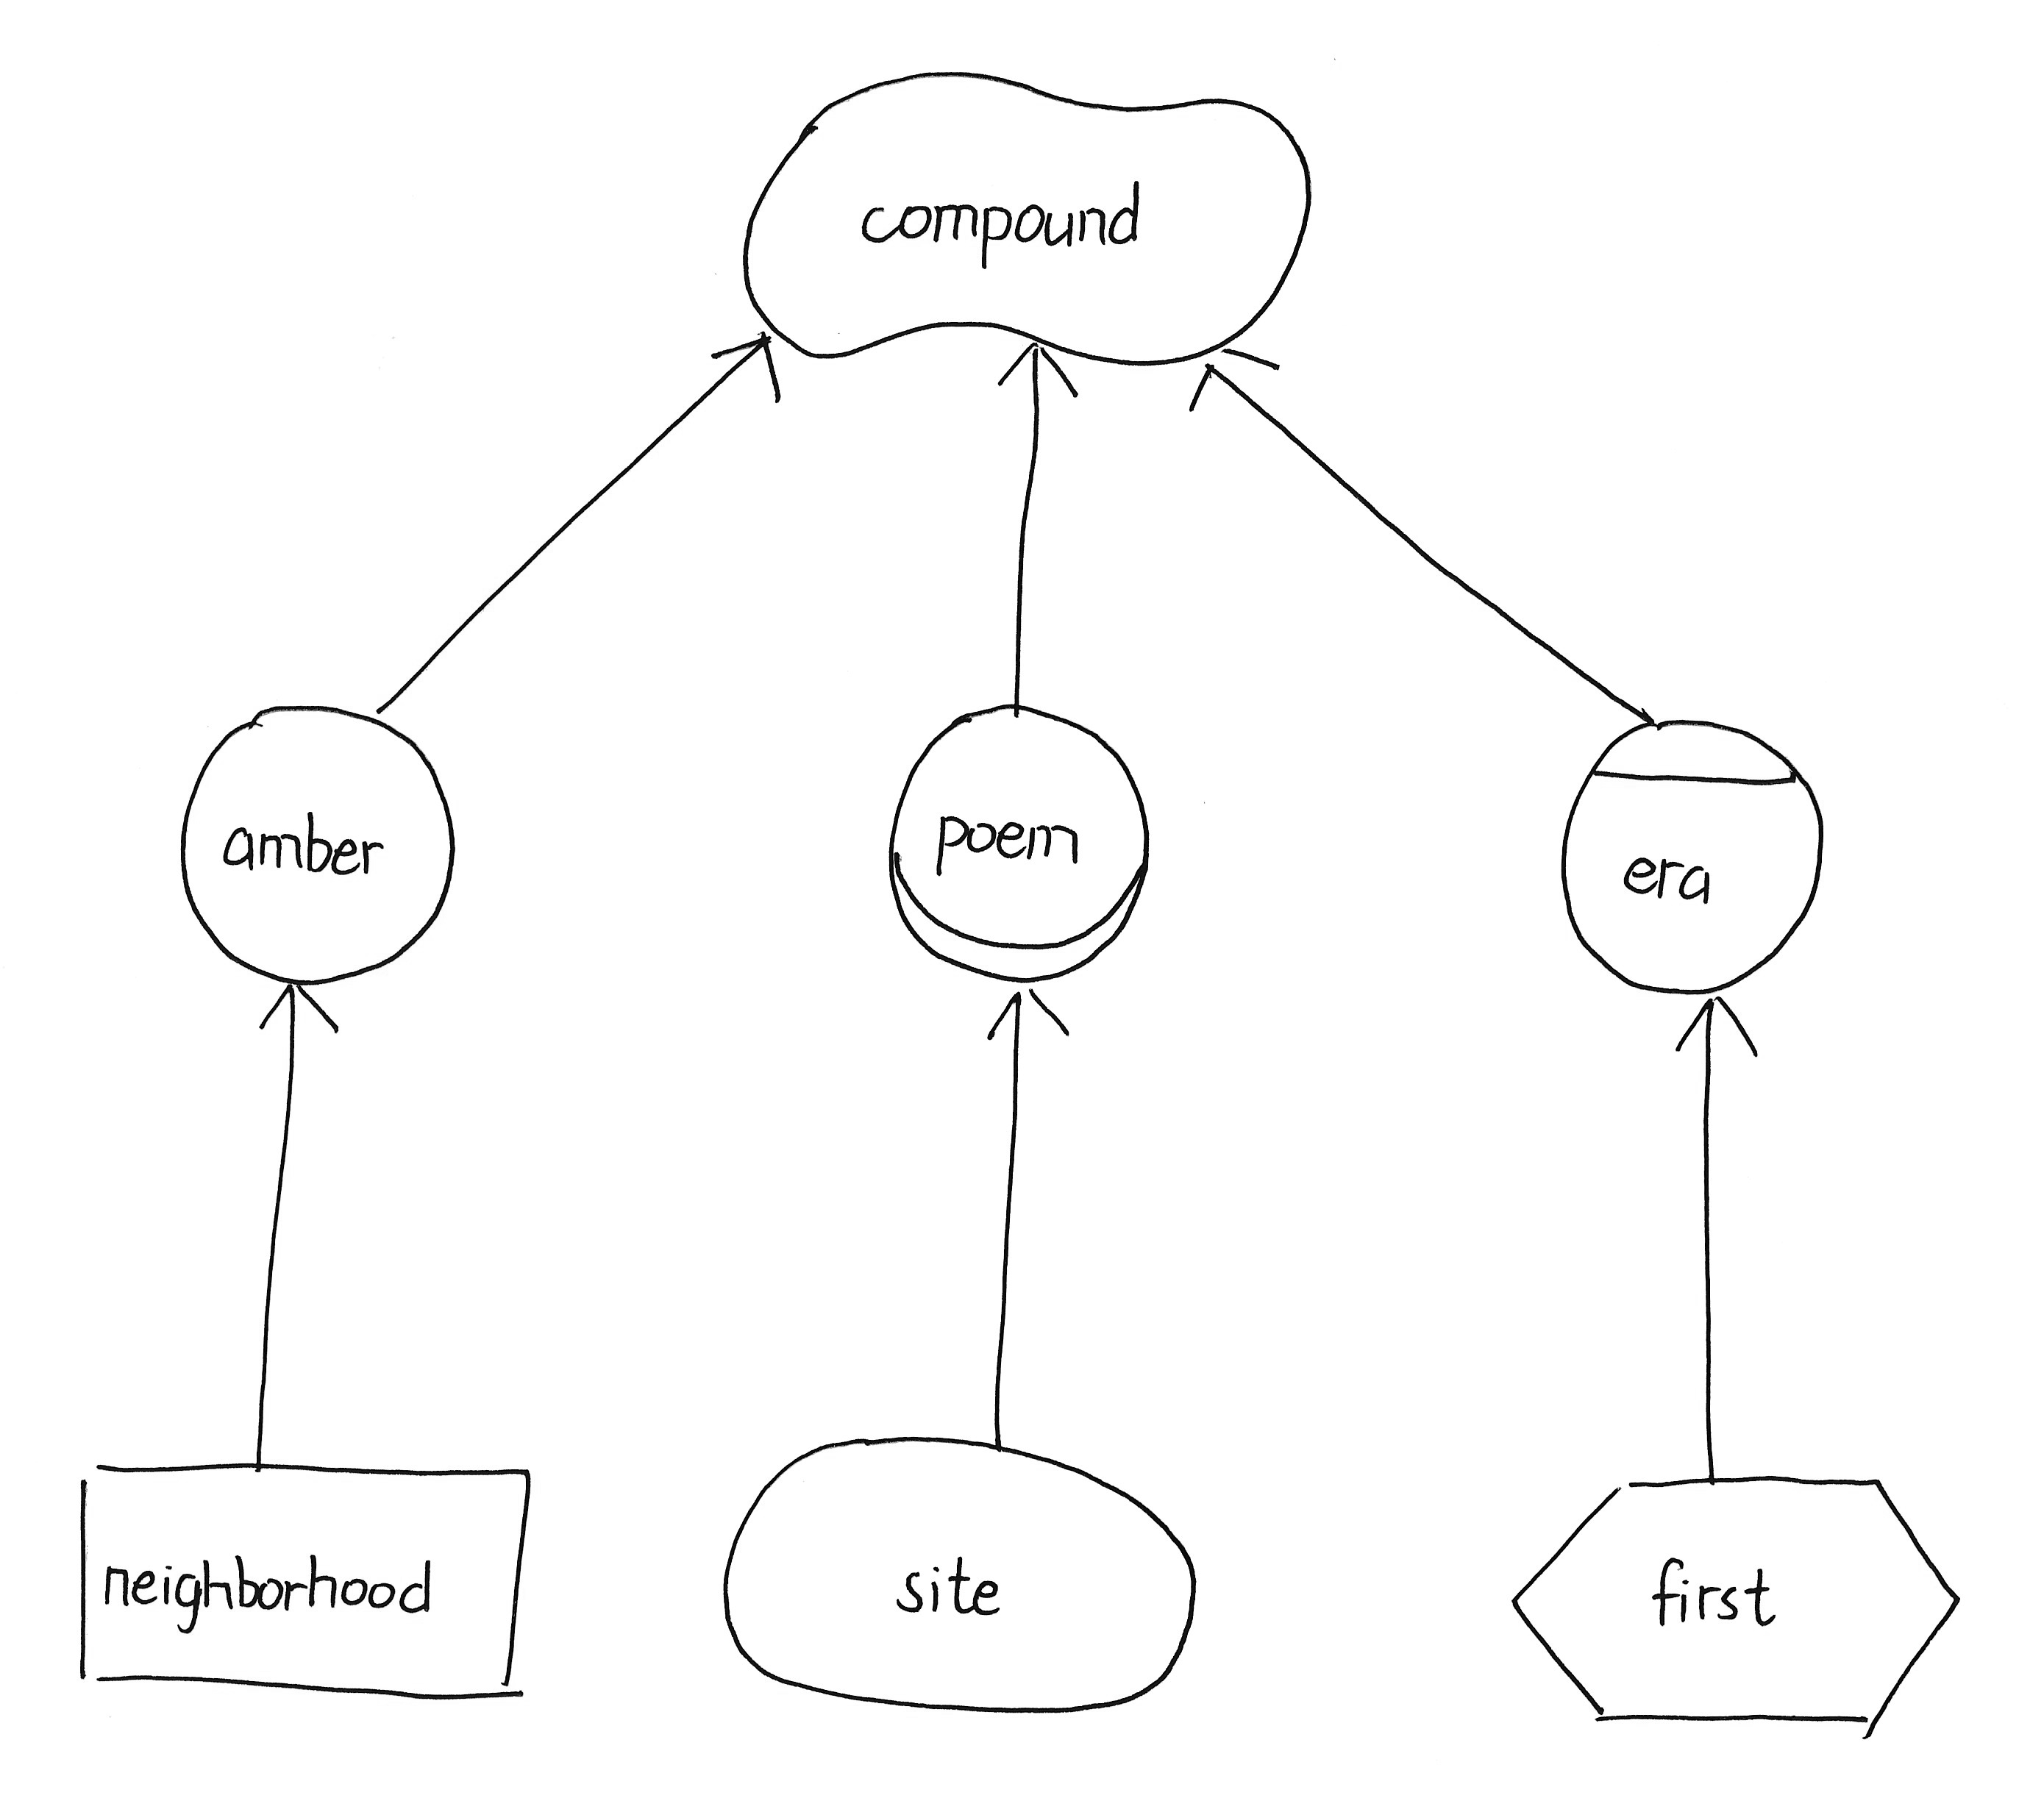actor: (164, 684, 469, 997)
agent: (1542, 707, 1841, 1009)
arrow: (696, 324, 792, 423), (991, 327, 1095, 420), (1177, 343, 1287, 427), (974, 972, 1081, 1058), (245, 971, 348, 1055), (1666, 986, 1766, 1063)
goal: (705, 1420, 1212, 1728)
quality: (724, 47, 1332, 374)
resource: (56, 1443, 553, 1719)
role: (869, 689, 1173, 993)
task: (1488, 1460, 1976, 1754)
